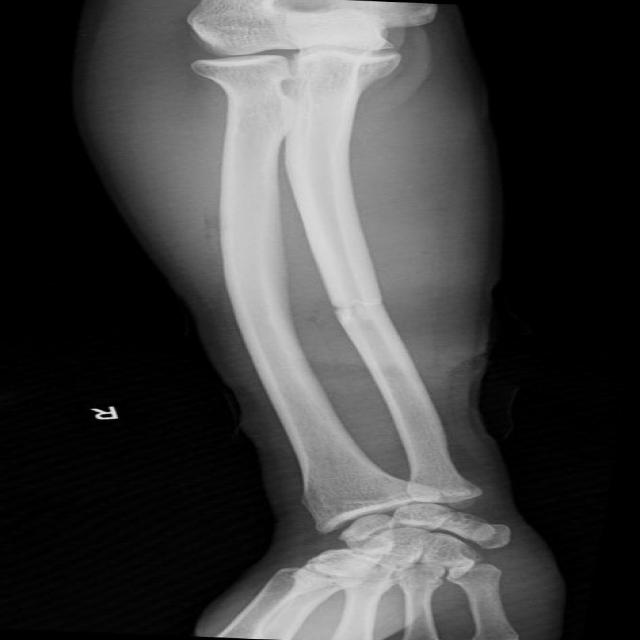Greenstick: (308, 291, 376, 328)
